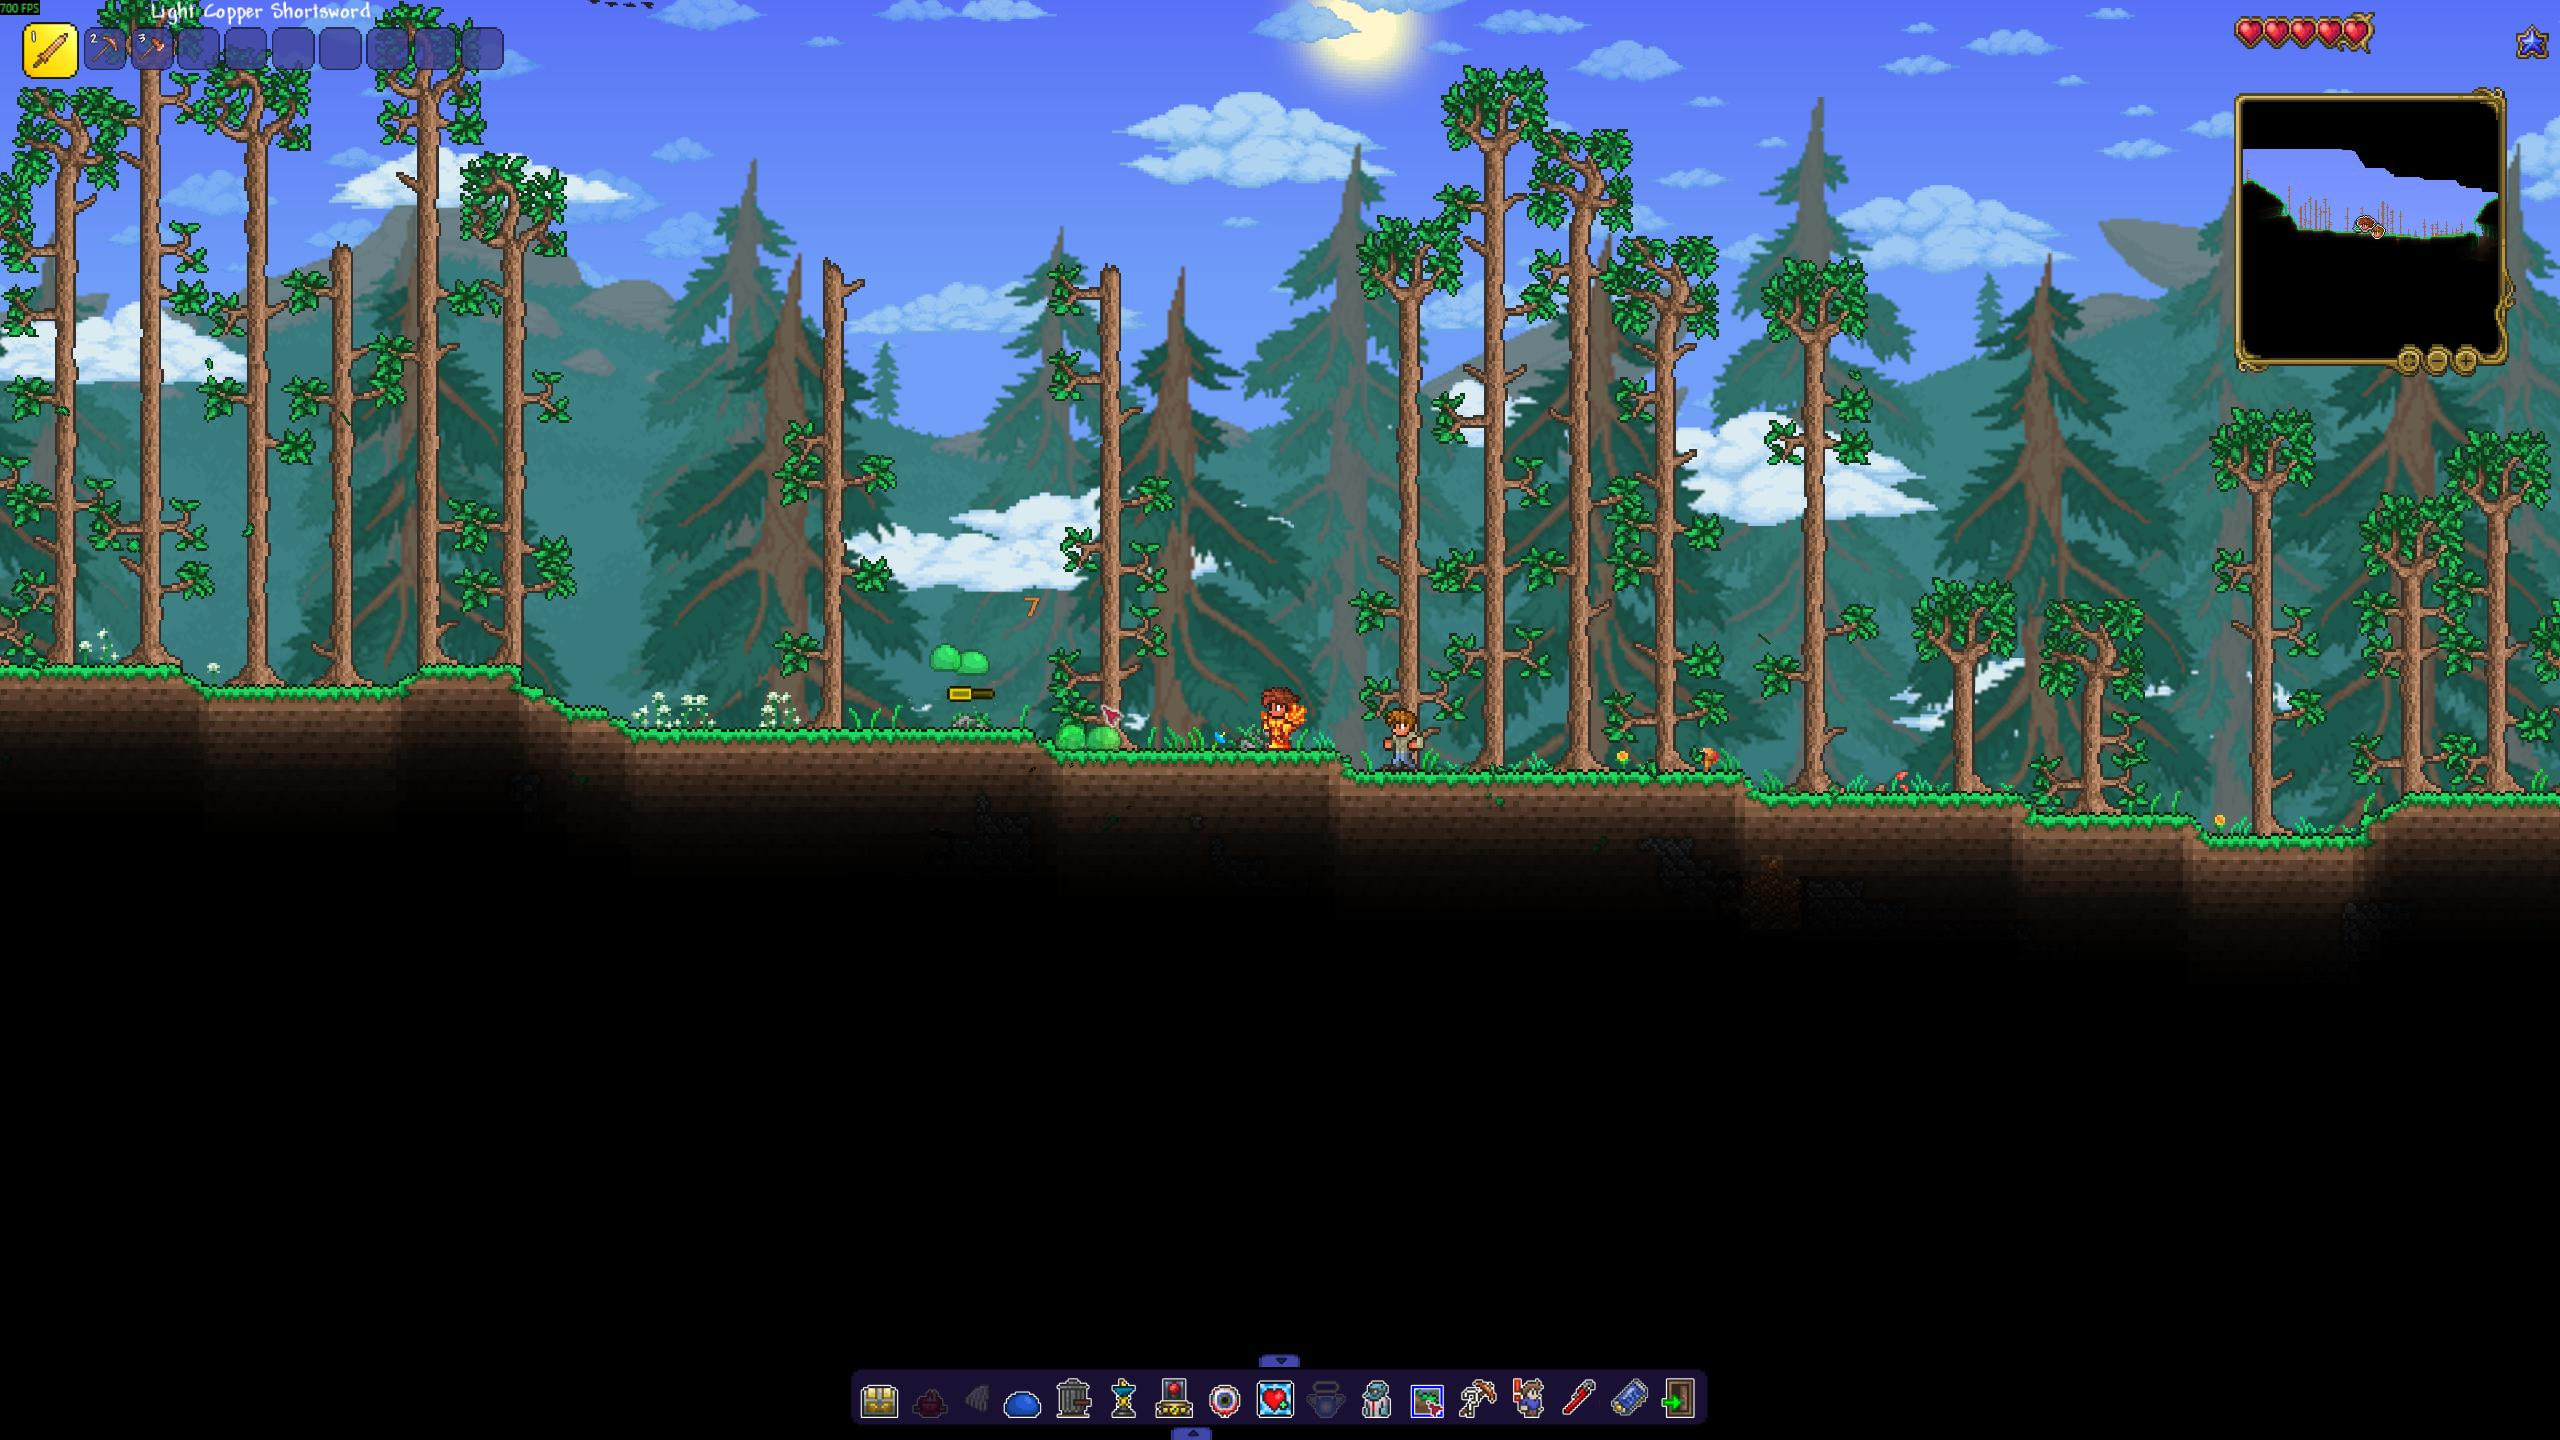Green Slime: (1050, 723, 1090, 760), (928, 640, 960, 675), (956, 647, 992, 677), (1087, 726, 1124, 753)
